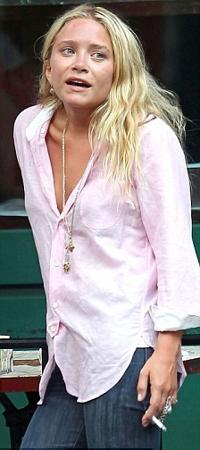person: (14, 5, 200, 450)
